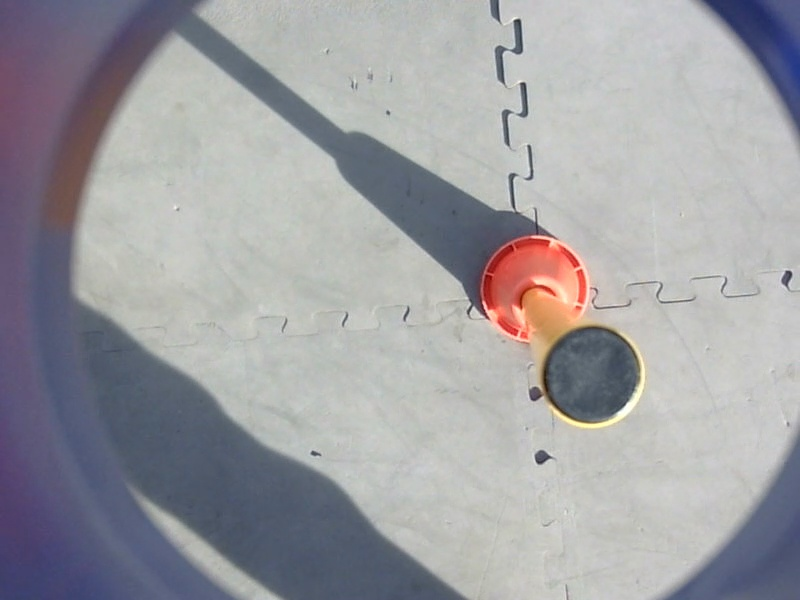tip: (535, 322, 650, 433)
